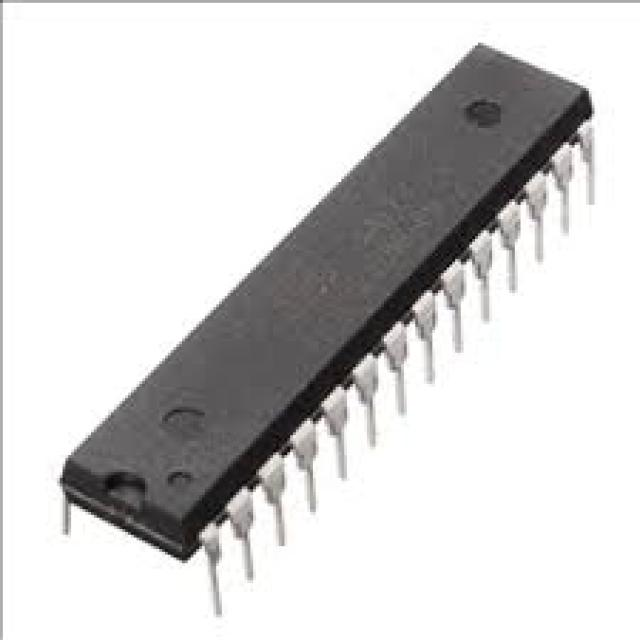atmega: (54, 37, 600, 612)
